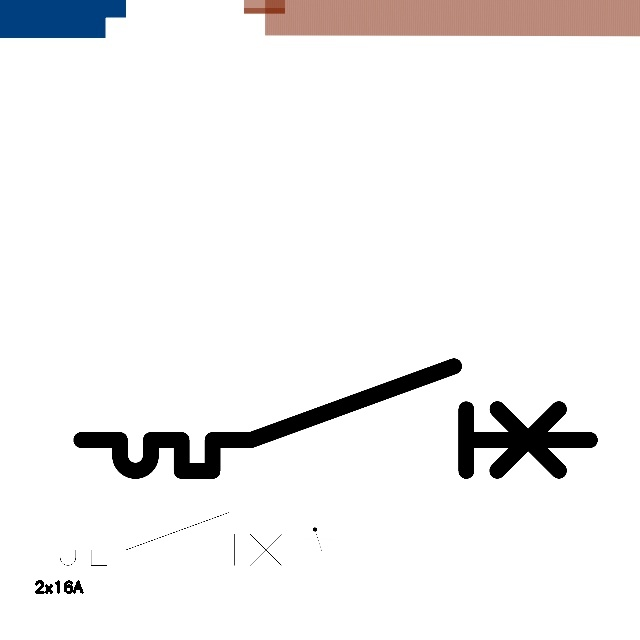interruptor_termomagnetico: (68, 353, 602, 484), (34, 506, 304, 572)
